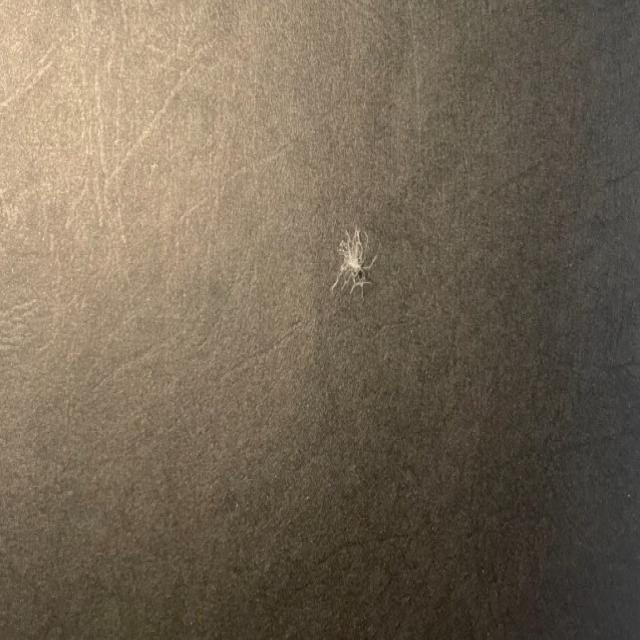feather: (327, 222, 371, 300)
